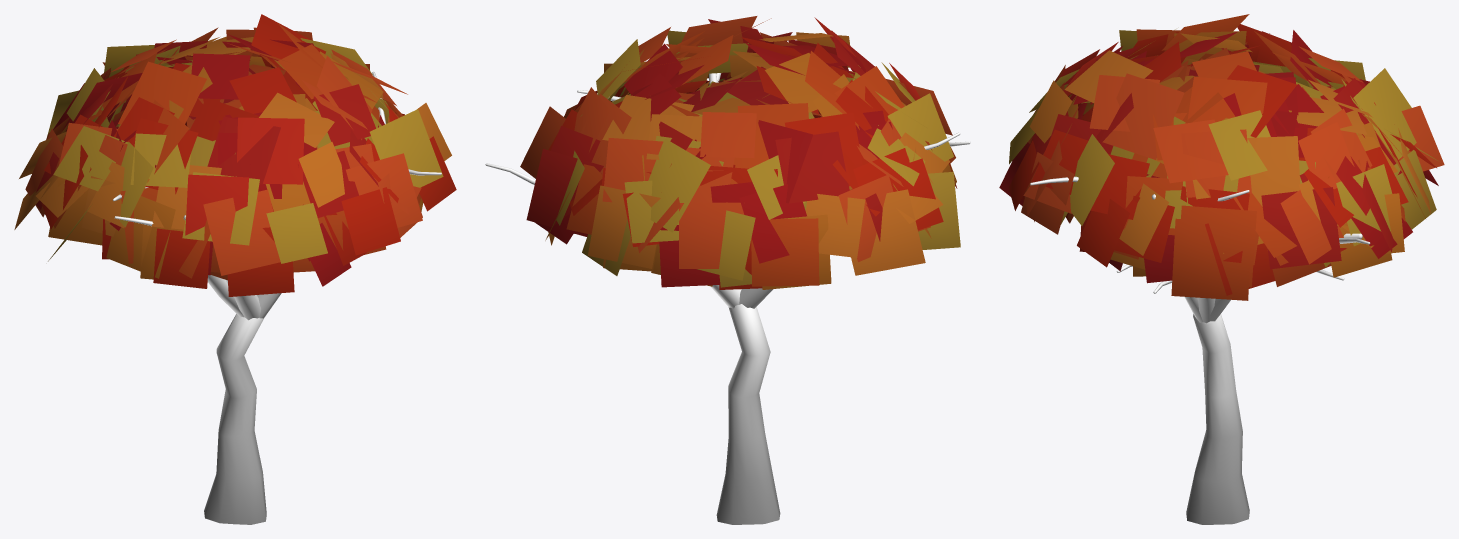
Rendered from maple_1.glb.
3 views of the same model, side by side, from view 1: azimuth 30°, elevation 25°; view 2: azimuth 150°, elevation 25°; view 3: azimuth 270°, elevation 25° (orthographic).
Parts seen in each view (by area): view 1: maple_20; view 2: maple_20; view 3: maple_20.
Boxes of the visible parts, box(x1,y1,x2,y2) form: maple_20: box(14, 14, 456, 524); maple_20: box(485, 16, 970, 524); maple_20: box(999, 14, 1444, 524).
Bounding box in the file's own units: 6.38 × 7.24 × 6.27.
